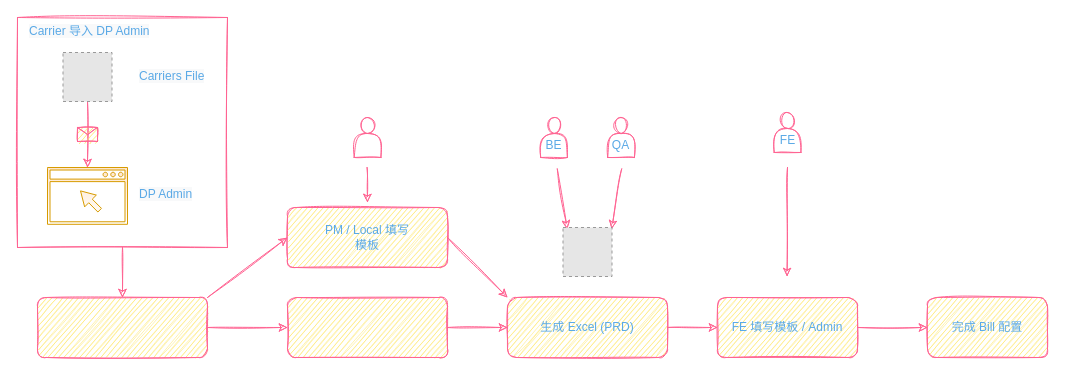
This 1065x375 diagram has some shape labels left out. Grey dashed boxes stand in for pictures. The centre of each missing label's shape, as x and y in pixels:
Bill Config Admin 生成模板: pixel 122 327
PM: pixel 367 137
PM / Local 填写 Bill Config Admin: pixel 367 327
